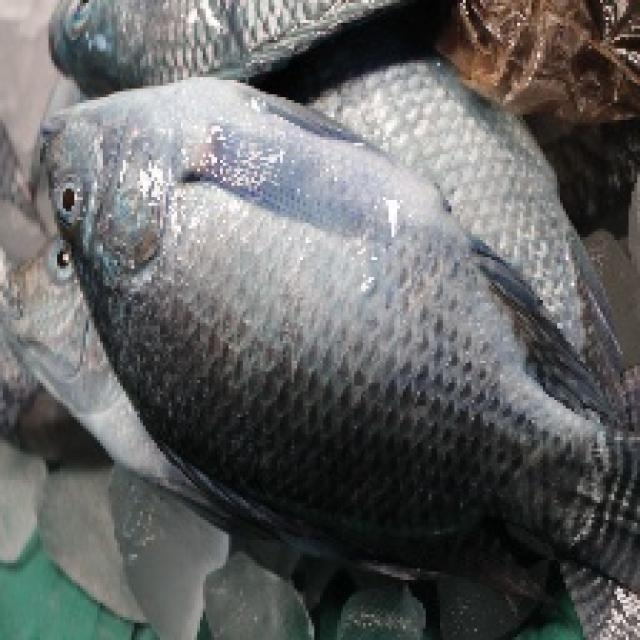Fresh: (100, 102, 502, 521), (47, 160, 103, 236)
